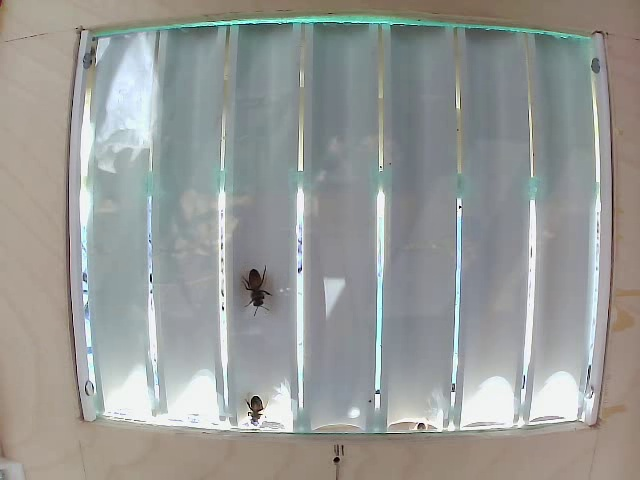bee: (233, 262, 279, 314)
